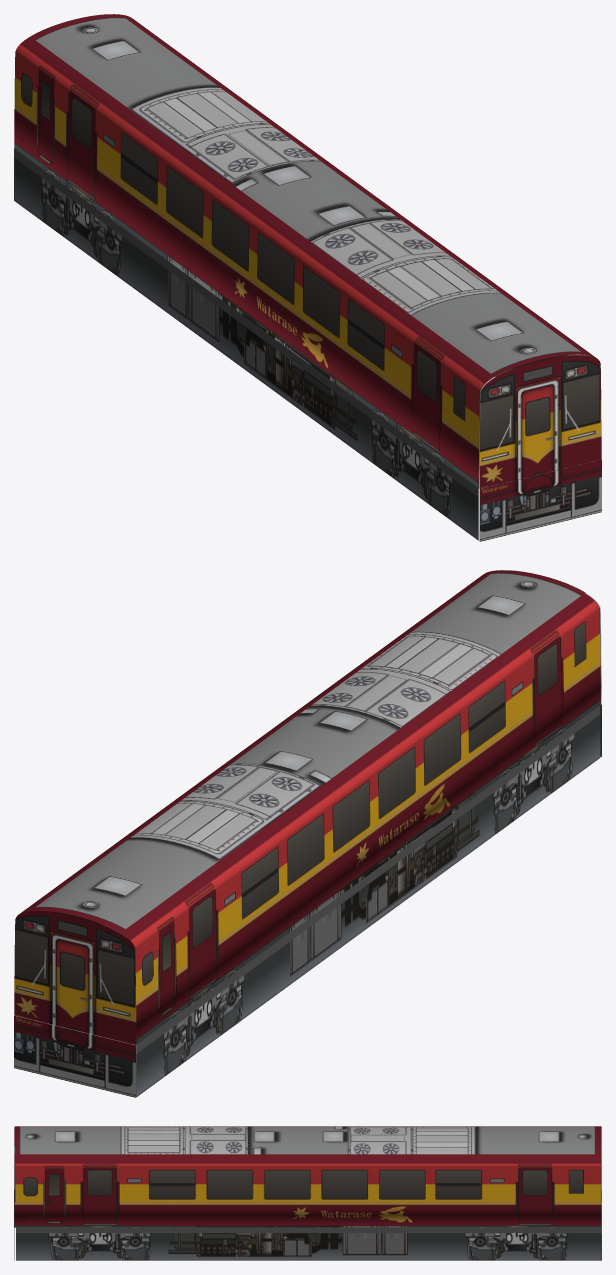
Rendered from car1.glb.
The picture shows the model from 3 angles, top to bottom: view 1: azimuth 30°, elevation 25°; view 2: azimuth 150°, elevation 25°; view 3: azimuth 270°, elevation 25°; orthographic projection. The views are drawn at different scales.
Parts seen in each view (by area): view 1: watarase-wkt510-car1; view 2: watarase-wkt510-car1; view 3: watarase-wkt510-car1.
Boxes of the visible parts, bbox=[...] form: watarase-wkt510-car1: bbox=[14, 14, 601, 541]; watarase-wkt510-car1: bbox=[14, 570, 601, 1097]; watarase-wkt510-car1: bbox=[14, 1126, 601, 1260].
Size of the model in its own units: 2.8 by 3.66 by 18.53.
9 materials, 8 textured.
